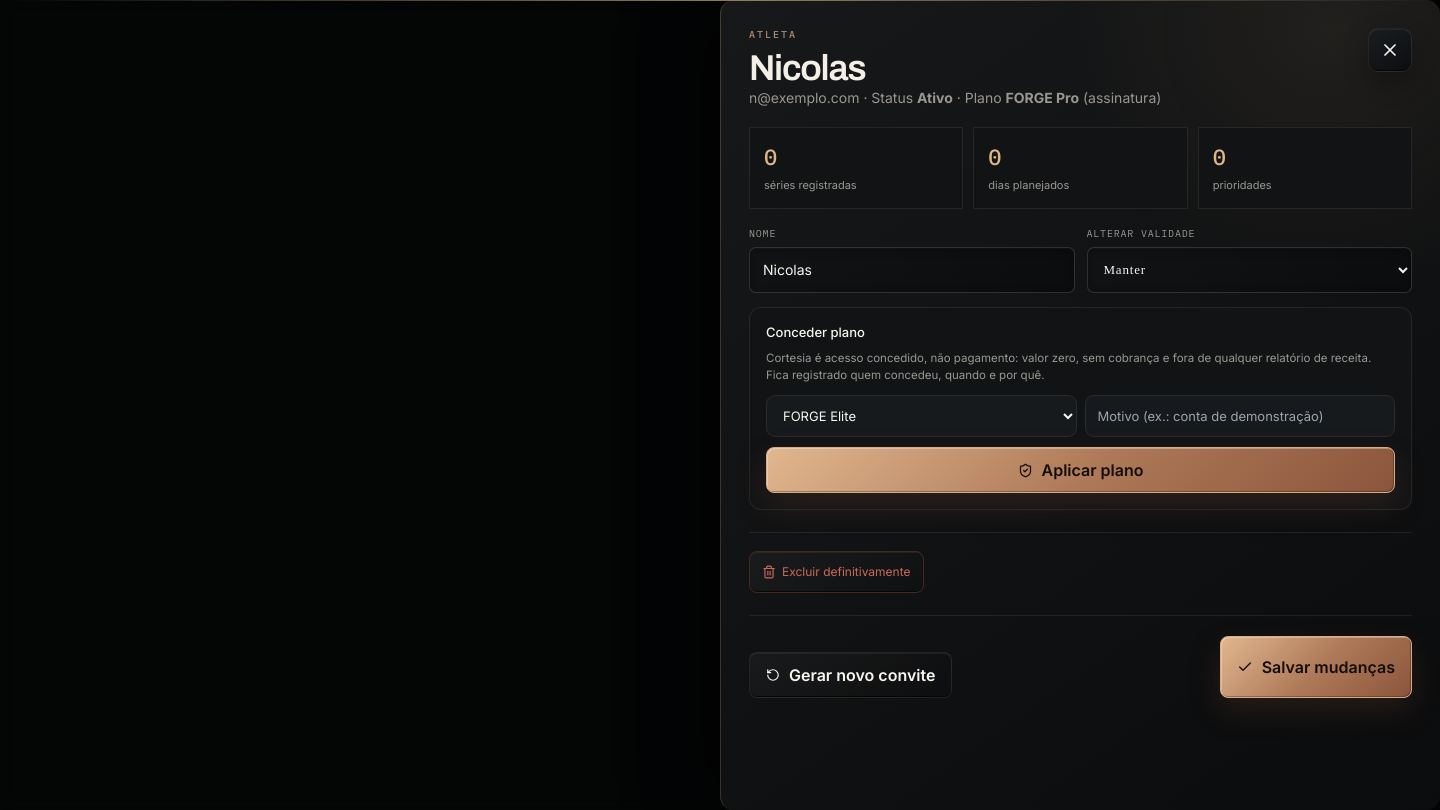
Test: erro aparece DENTRO do cartao, ao lado do botao
The width and height of the screenshot is (1440, 810).
Select "FORGE Elite" in the dropdown with test id "conceder-plano-code" at (921, 416), box [766,395,1076,437]
Click the button with test id "conceder-plano-salvar" at (1080, 470), box [766,447,1395,493]
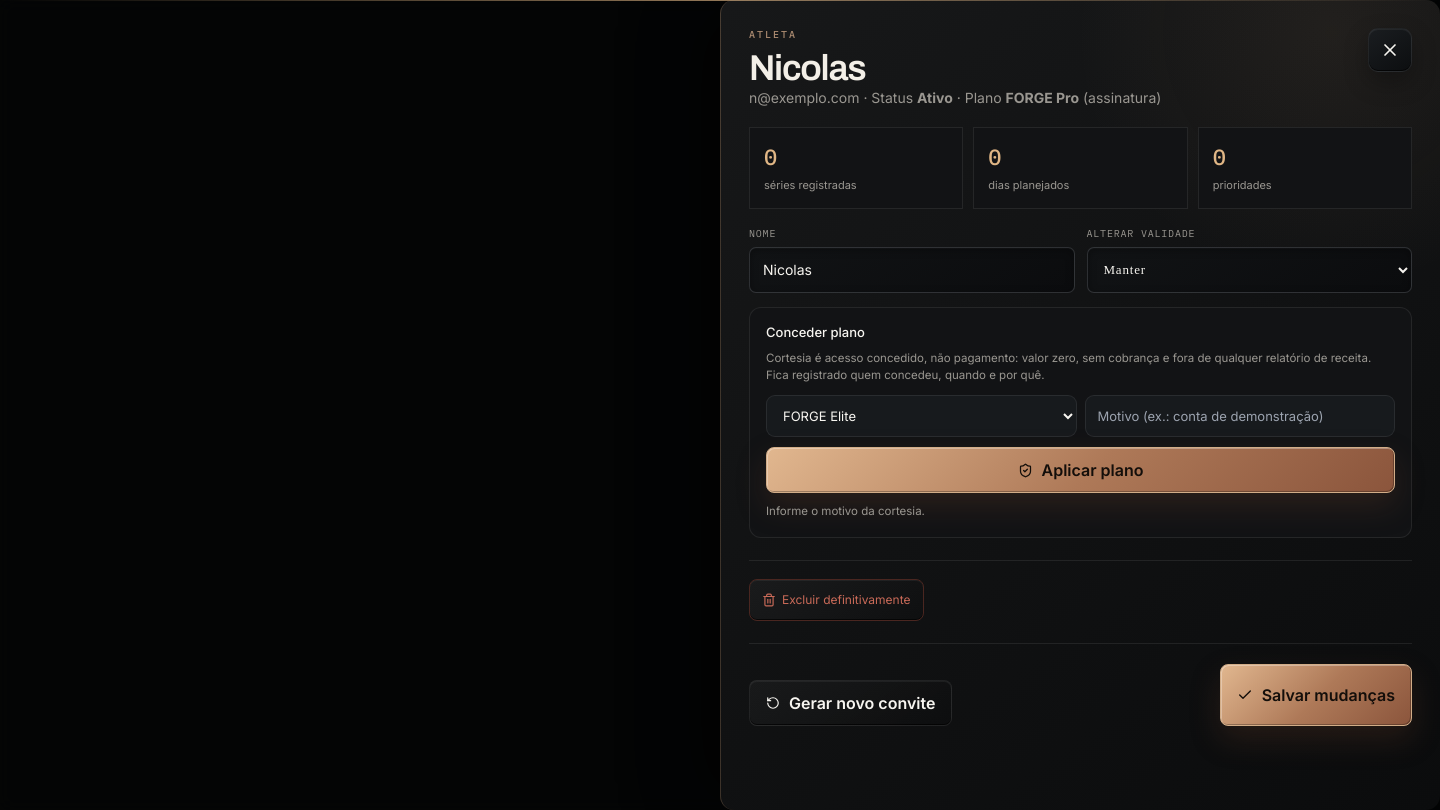
expect the message with test id "conceder-plano-erro" shows "motivo": met, box [766,504,925,518]
